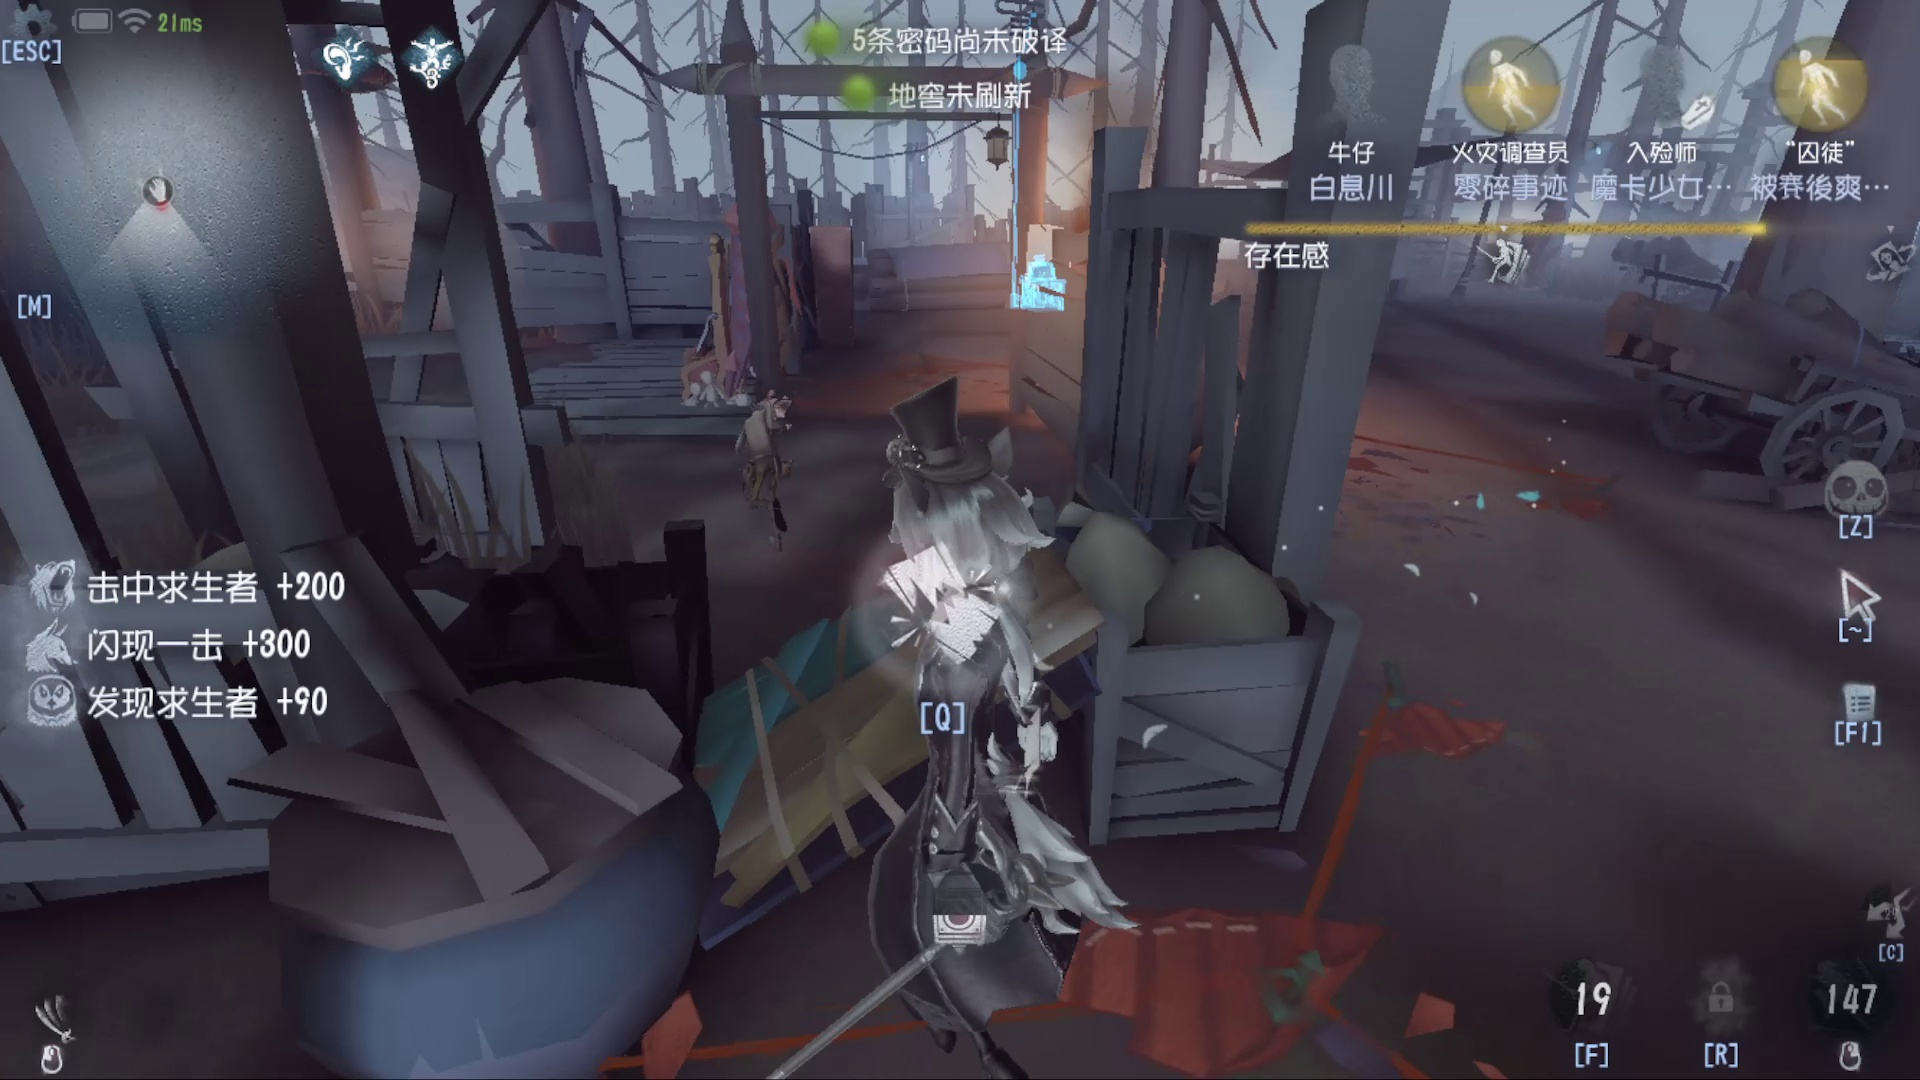密码机: (986, 49, 1077, 342)
木板: (671, 553, 1142, 852)
求生者: (687, 388, 822, 524)
狂欢之椅: (662, 208, 804, 404)
脚印: (1085, 876, 1466, 1042)
